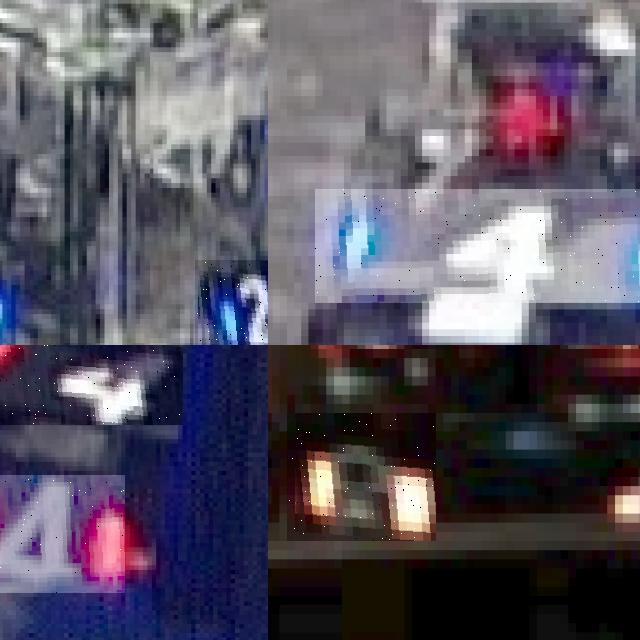B2: (195, 260, 268, 345)
B4: (315, 189, 640, 302)
R4: (0, 475, 125, 592), (0, 345, 182, 425)
Rs: (287, 413, 436, 541)
